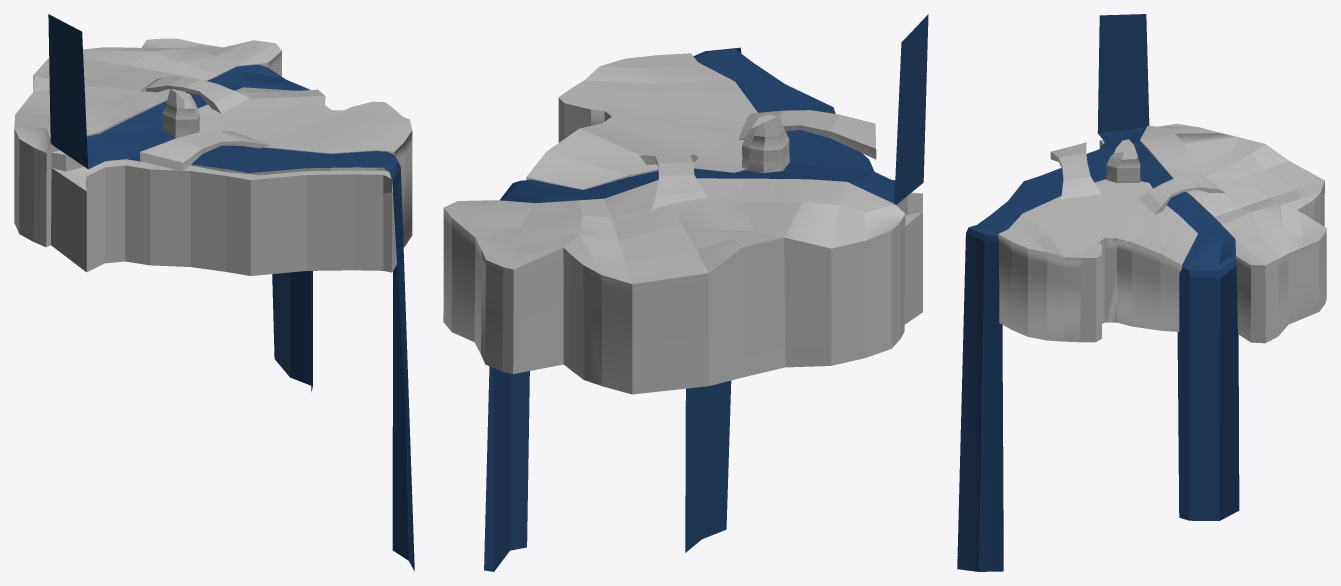
Rendered from 3D_Environnement_Ile1Q5_V01.fbx.
3 views of the same model, side by side, from view 1: azimuth 30°, elevation 25°; view 2: azimuth 150°, elevation 25°; view 3: azimuth 270°, elevation 25° (orthographic). The views are drawn at different scales.
Visible parts, largest first — view 1: Ground001, Water001, Bridge002, Bridge001, Wall001; view 2: Ground001, Water001, Bridge002, Wall001, Bridge001; view 3: Ground001, Water001, Bridge002, Bridge001, Wall001.
Boxes of the visible parts, x1,y1,x2,y2 form: Ground001: (14, 38, 412, 275); Water001: (48, 14, 414, 570); Bridge002: (140, 130, 271, 171); Bridge001: (139, 77, 249, 113); Wall001: (162, 89, 199, 137); Ground001: (443, 53, 922, 394); Water001: (484, 14, 928, 571); Bridge002: (738, 110, 876, 159); Wall001: (741, 114, 789, 172); Bridge001: (640, 154, 707, 209); Ground001: (998, 123, 1326, 343); Water001: (957, 14, 1239, 571); Bridge002: (1050, 142, 1101, 199); Bridge001: (1138, 174, 1225, 214); Wall001: (1106, 139, 1140, 183).
Bounding box in the file's own units: 43.08 × 69.88 × 51.75.
